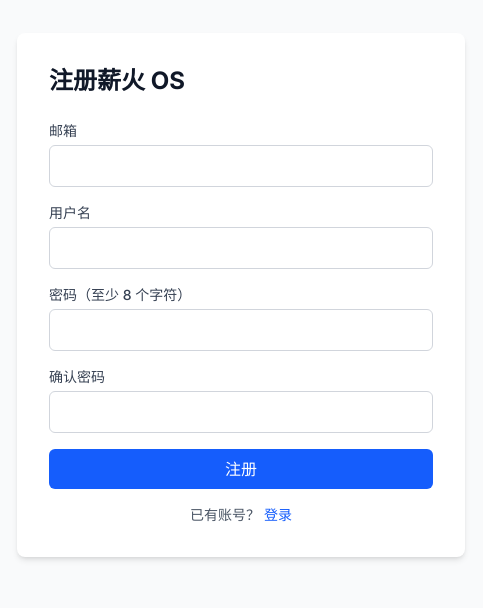
Test: Register Page › shows error when passwords do not match
Type "test@test.com" into the field below "邮箱" at point(241, 166), box [49,145,433,187]
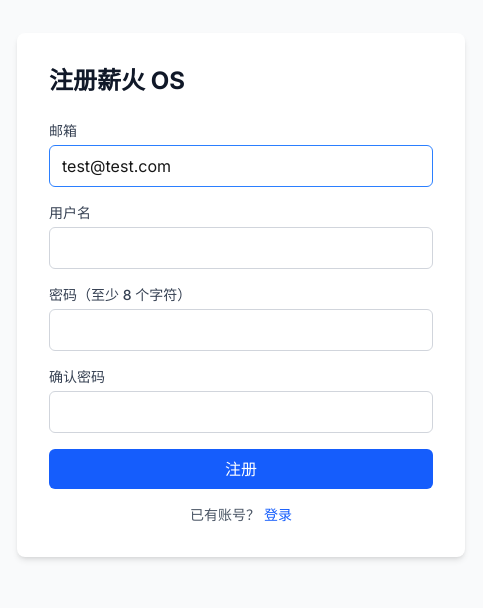
Type "testuser" into the field below "用户名" at point(241, 248), box [49,227,433,269]
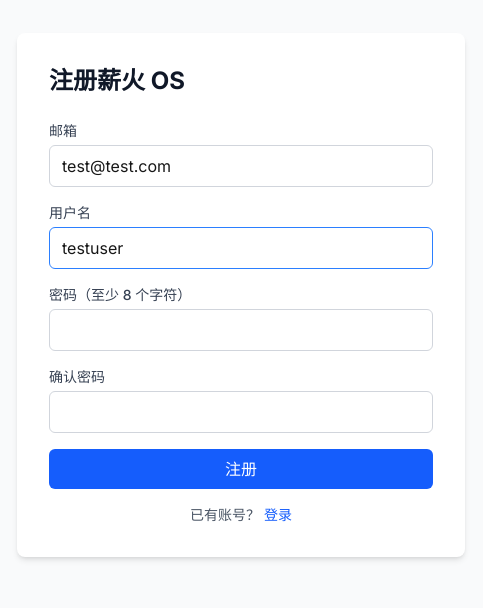
Type "password123" into the password field below "密码（至少 8 个字符）" at point(241, 330), box [49,309,433,351]
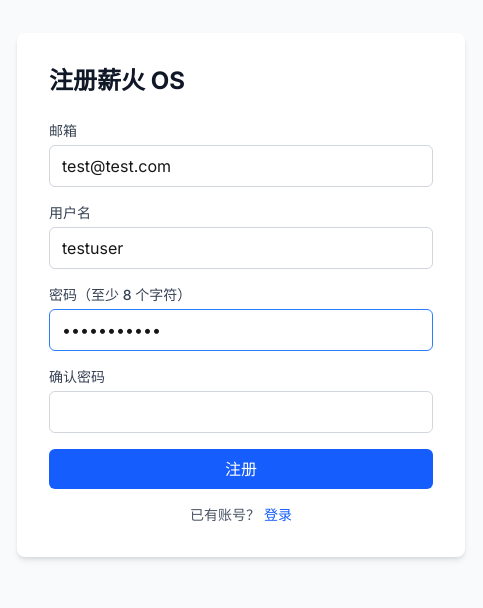
Type "different123" into the password field below "确认密码" at point(241, 412), box [49,391,433,433]
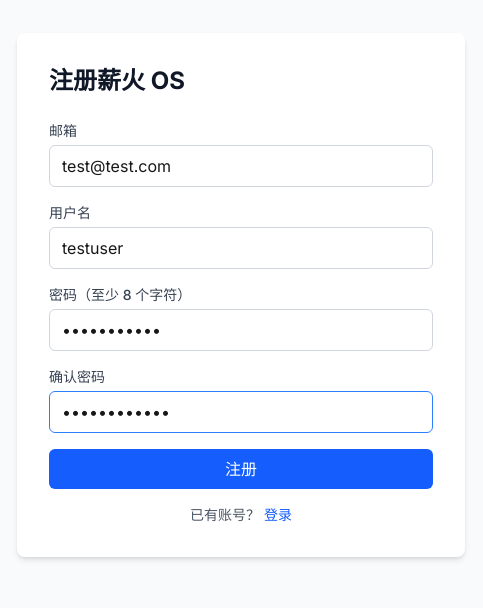
Click the submit button at point(241, 469), box [49,449,433,489]
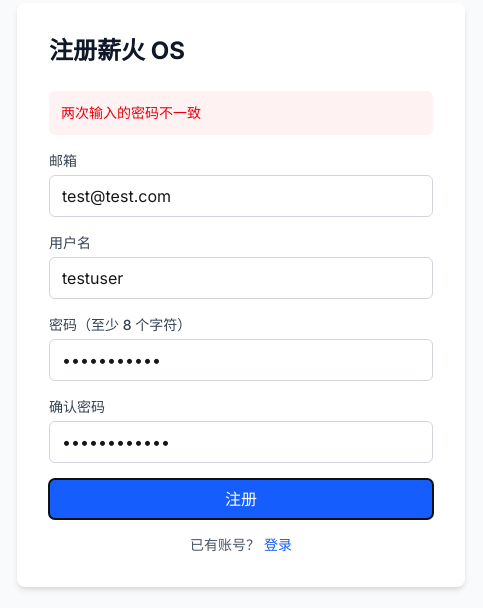
Check: the text "两次输入的密码不一致" is shown, box [49,91,433,135]
